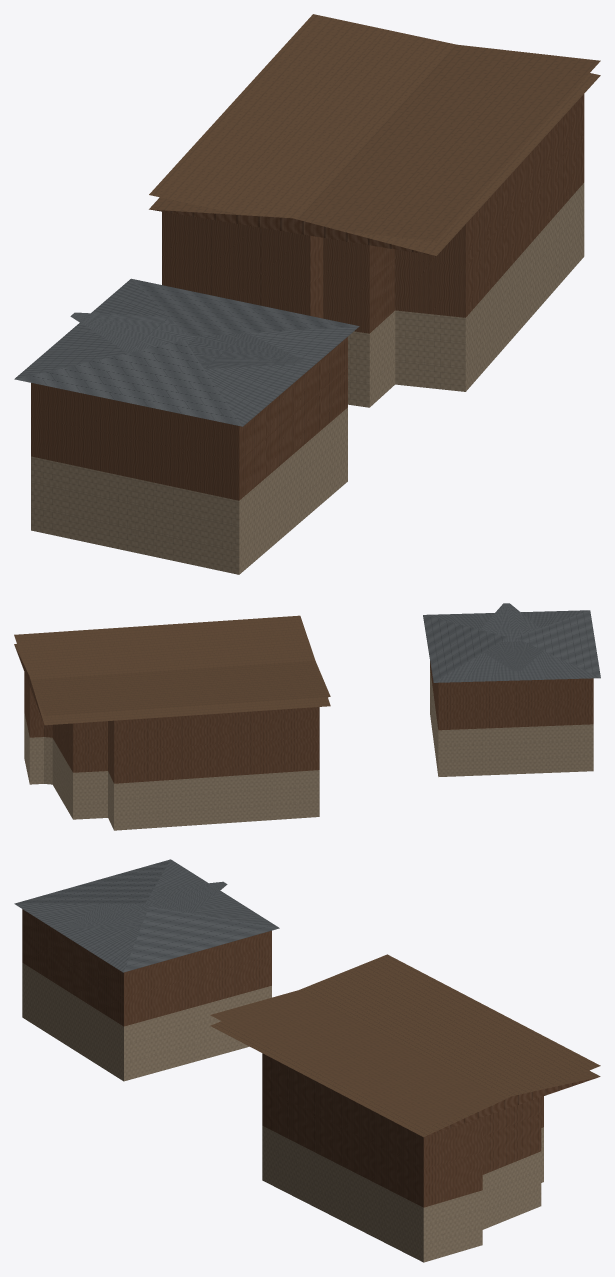
Rendered from bld_c2_-8_599.gltf.
The picture shows the model from 3 angles, top to bottom: view 1: azimuth 30°, elevation 25°; view 2: azimuth 150°, elevation 25°; view 3: azimuth 270°, elevation 25°; orthographic projection. The views are drawn at different scales.
Parts seen in each view (by area): view 1: bld_c2_-8_599; view 2: bld_c2_-8_599; view 3: bld_c2_-8_599.
Part boxes in pixels (x1=…): bld_c2_-8_599: x1=14, y1=14, x2=600, y2=574; bld_c2_-8_599: x1=14, y1=603, x2=600, y2=830; bld_c2_-8_599: x1=14, y1=859, x2=600, y2=1262.
Size of the model in its own units: 54.55 by 13.6 by 49.44.
5 materials, 5 textured.
